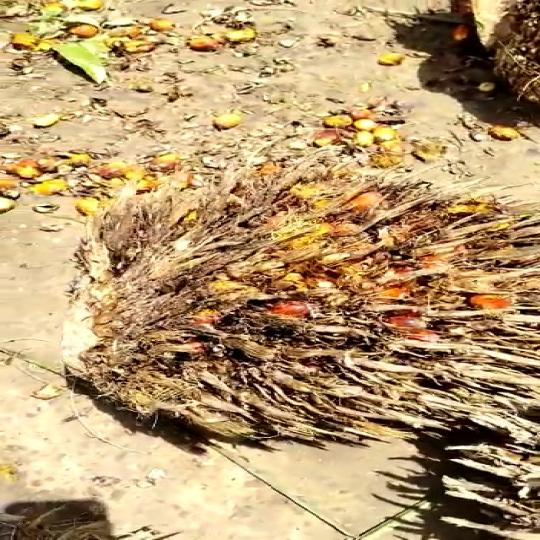terlalu masak: (59, 158, 540, 456)
